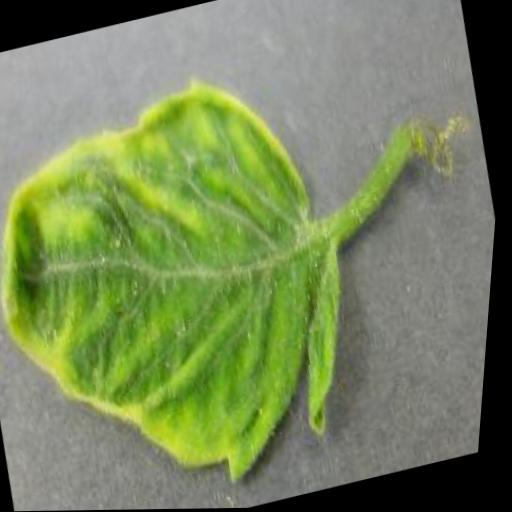Yellow Leaf Curl Virus: (0, 47, 401, 512)
